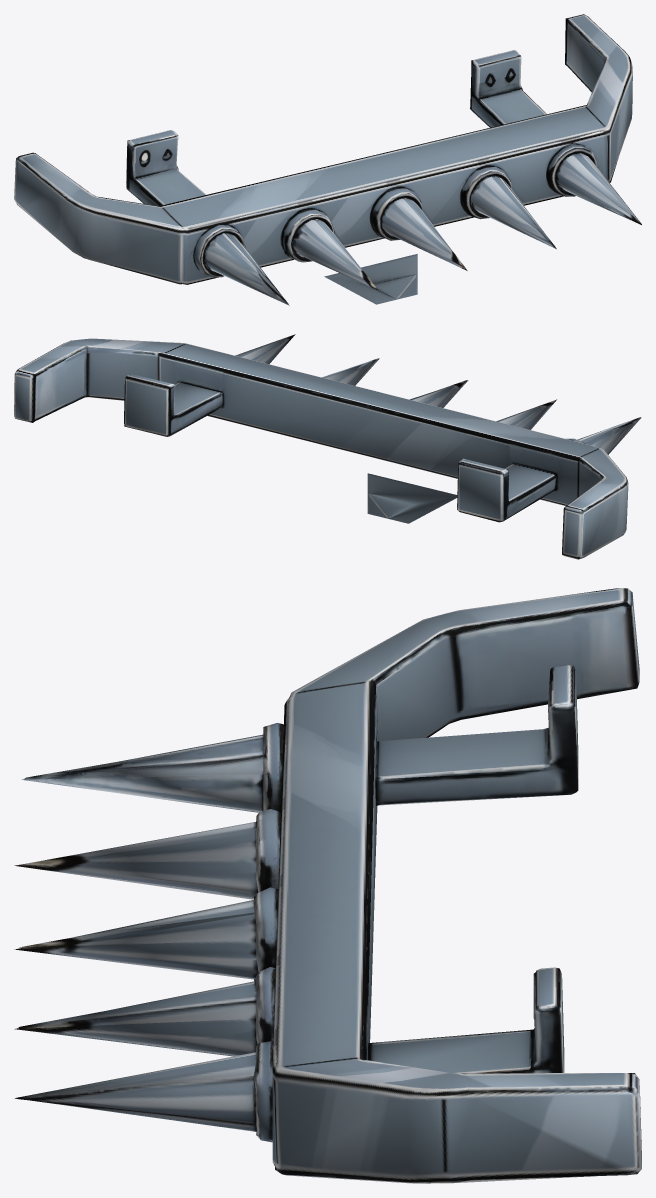
Rendered from donnerbuechse-spike_bumper.glb.
3 renders of one model, top to bottom at view 1: azimuth 30°, elevation 25°; view 2: azimuth 150°, elevation 25°; view 3: azimuth 270°, elevation 25°, orthographic. The views are drawn at different scales.
Visible parts, largest first — view 1: tripo_node_c3f713e0-88b3-44e8-a2df-efca9563edde; view 2: tripo_node_c3f713e0-88b3-44e8-a2df-efca9563edde; view 3: tripo_node_c3f713e0-88b3-44e8-a2df-efca9563edde.
Boxes of the visible parts, <box> form: tripo_node_c3f713e0-88b3-44e8-a2df-efca9563edde: <box>14,14,641,305</box>; tripo_node_c3f713e0-88b3-44e8-a2df-efca9563edde: <box>14,334,641,559</box>; tripo_node_c3f713e0-88b3-44e8-a2df-efca9563edde: <box>14,588,641,1183</box>.
Bounding box in the file's own units: 1.55 × 0.3913 × 0.8099.
Materials: 1 (1 with a texture image).
